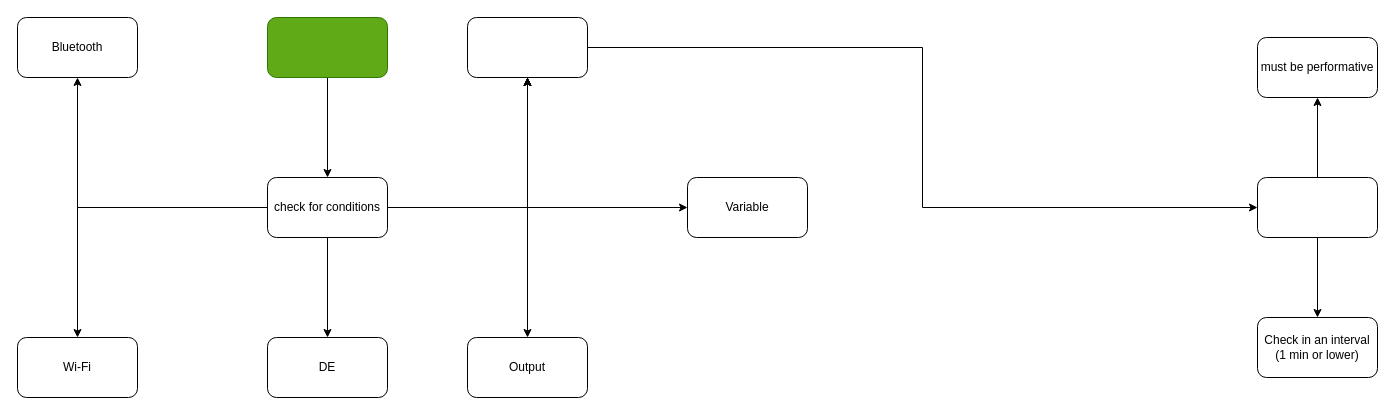
Image size: 1395x415. Some labels were removed from this diagram. The box of each missing label's shape, as (x1, y1, x2, y2) in pixels:
Go to Time Check Service: (466, 16, 588, 78)
Start: (266, 16, 388, 78)
Time Check Service: (1256, 176, 1378, 238)
